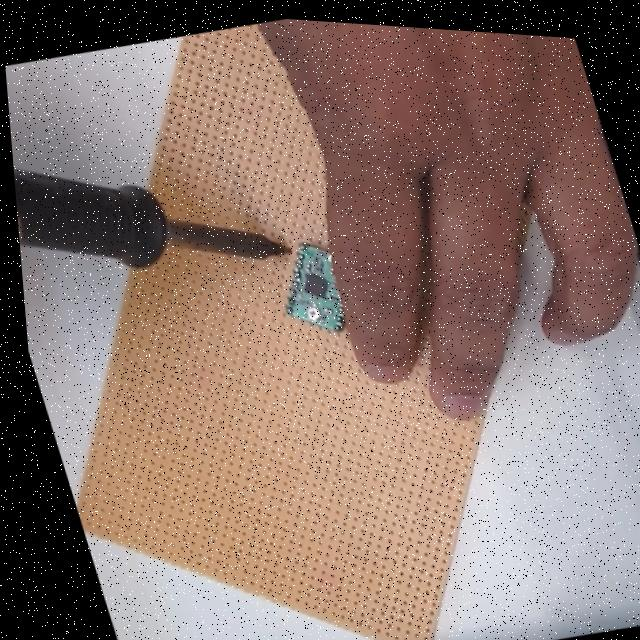Chip: (262, 224, 356, 345)
soldering_iron: (8, 101, 294, 321)
